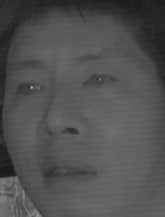eye: (80, 71, 120, 95), (14, 79, 45, 99)
mouth: (39, 151, 99, 194)
